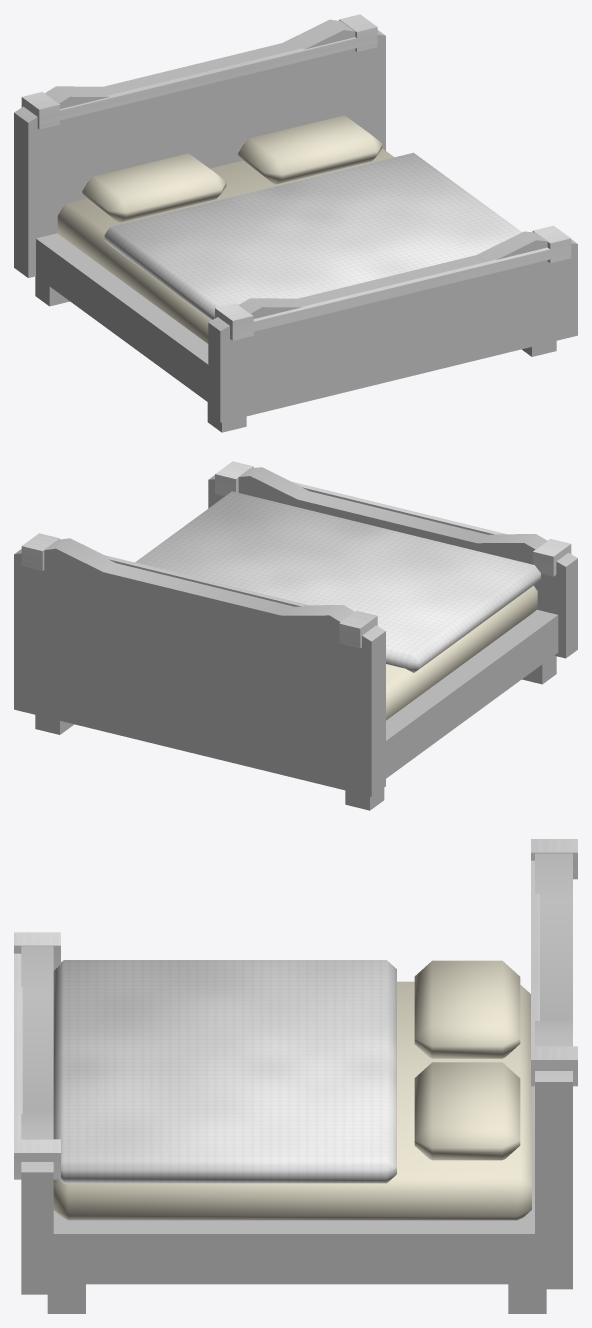
File: royal_bed.obj
3 renders of one model, top to bottom at view 1: azimuth 30°, elevation 25°; view 2: azimuth 150°, elevation 25°; view 3: azimuth 270°, elevation 25°, orthographic. The views are drawn at different scales.
Parts seen in each view (by area): view 1: retained_104, retained_264, retained_236, retained_0, retained_60, retained_192, retained_148, retained_328, retained_292, retained_304, retained_340, retained_316 (+1 smaller); view 2: retained_236, retained_104, retained_0, retained_264, retained_60, retained_328, retained_292, retained_304, retained_340, retained_316, retained_352, retained_24 (+2 smaller); view 3: retained_104, retained_0, retained_60, retained_236, retained_264, retained_192, retained_148, retained_328, retained_292, retained_352, retained_316, retained_48 (+3 smaller).
Boxes of the visible parts, bbox=[...] form: retained_104: bbox=[104, 152, 521, 319]; retained_264: bbox=[208, 231, 577, 422]; retained_236: bbox=[14, 19, 385, 277]; retained_0: bbox=[36, 233, 208, 401]; retained_60: bbox=[57, 148, 393, 343]; retained_192: bbox=[238, 115, 382, 184]; retained_148: bbox=[82, 153, 226, 222]; retained_328: bbox=[249, 247, 553, 331]; retained_292: bbox=[56, 37, 360, 120]; retained_304: bbox=[21, 92, 59, 129]; retained_340: bbox=[215, 303, 253, 340]; retained_316: bbox=[339, 14, 377, 51]; retained_236: bbox=[14, 538, 385, 796]; retained_104: bbox=[135, 491, 540, 672]; retained_0: bbox=[386, 609, 558, 778]; retained_264: bbox=[208, 467, 577, 658]; retained_60: bbox=[386, 585, 537, 720]; retained_328: bbox=[293, 482, 506, 534]; retained_292: bbox=[105, 555, 309, 606]; retained_304: bbox=[339, 611, 377, 648]; retained_340: bbox=[532, 539, 571, 576]; retained_316: bbox=[21, 533, 59, 570]; retained_352: bbox=[215, 461, 253, 496]; retained_24: bbox=[345, 788, 384, 810]; retained_104: bbox=[53, 960, 396, 1183]; retained_0: bbox=[53, 1086, 534, 1284]; retained_60: bbox=[53, 981, 531, 1220]; retained_236: bbox=[535, 853, 572, 1289]; retained_264: bbox=[21, 945, 53, 1294]; retained_192: bbox=[414, 1062, 520, 1160]; retained_148: bbox=[414, 960, 520, 1058]; retained_328: bbox=[14, 953, 22, 1139]; retained_292: bbox=[531, 860, 539, 1046]; retained_352: bbox=[14, 1139, 60, 1179]; retained_316: bbox=[531, 1046, 577, 1086]; retained_48: bbox=[508, 1284, 546, 1313].
Bounding box in the file's own units: 1.88 × 0.98 × 1.92.
